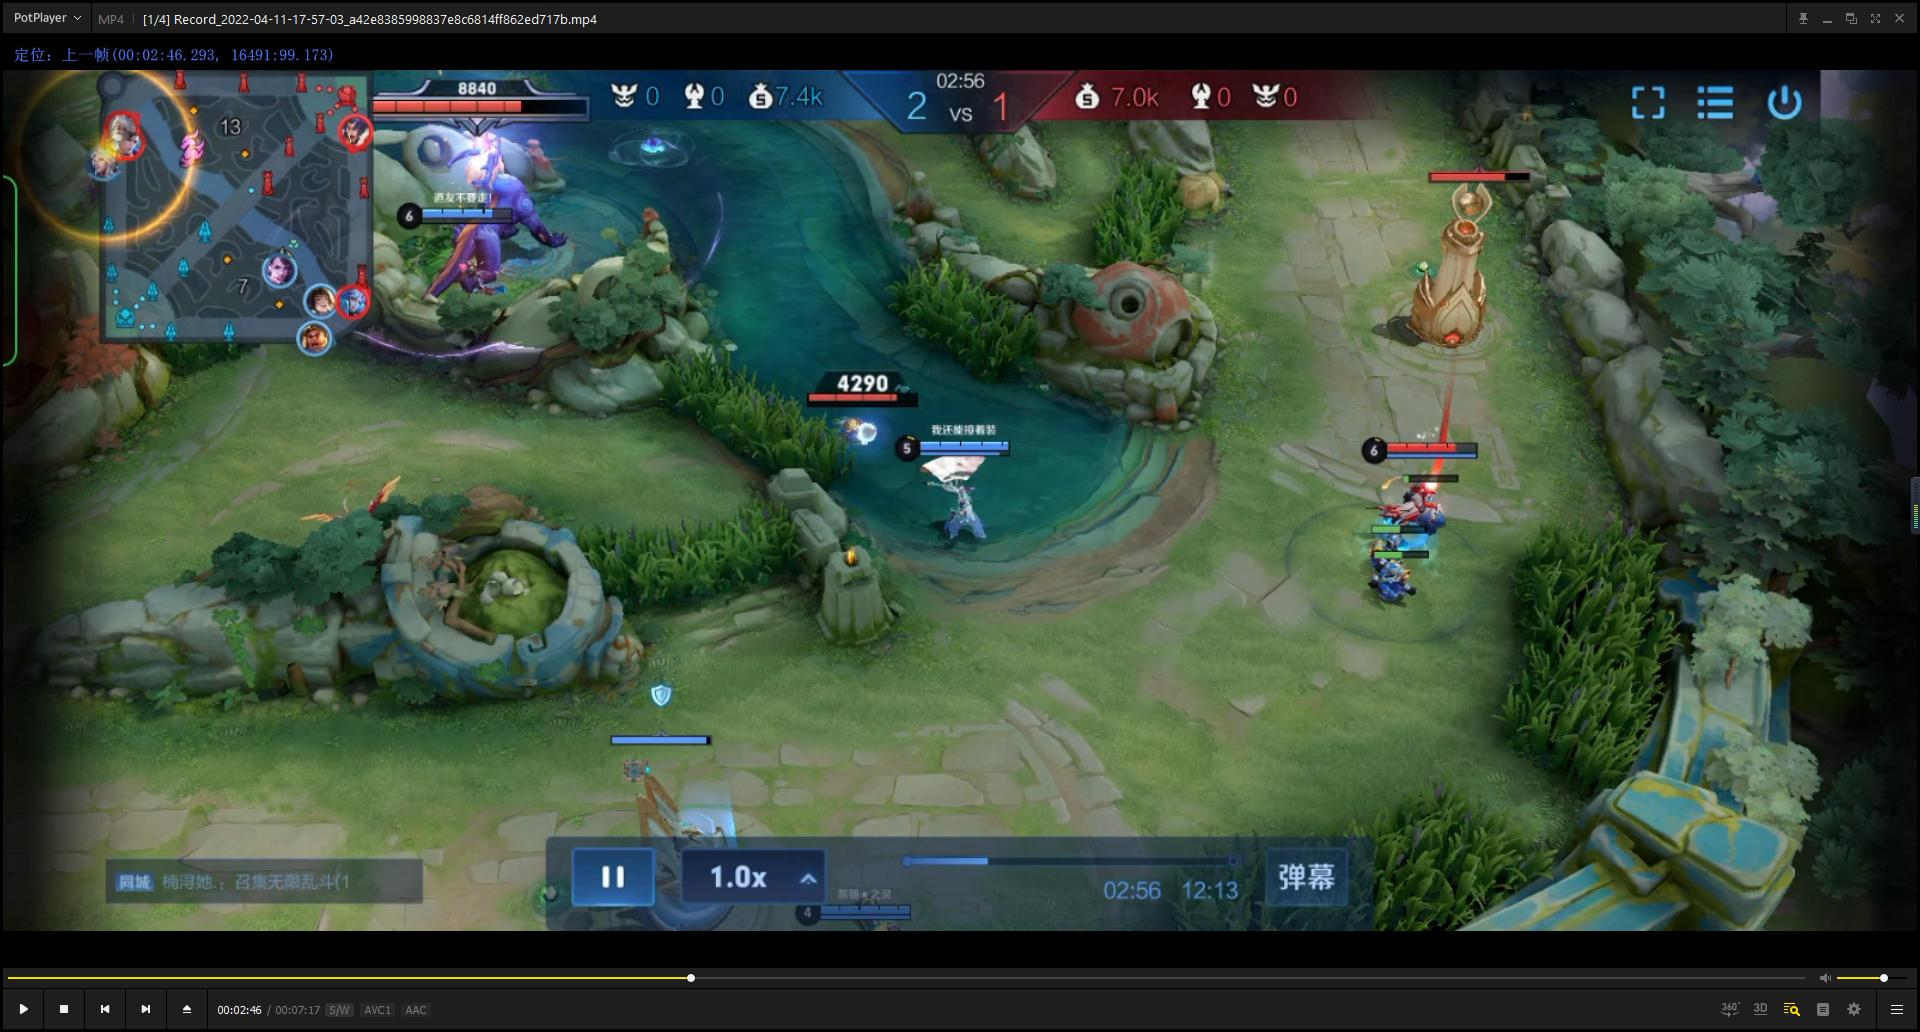BaoJun: (363, 75, 612, 304)
Bird: (277, 466, 412, 536)
Hero: (905, 452, 1014, 558), (1376, 466, 1445, 530), (447, 247, 513, 295)
Solider: (1365, 557, 1443, 621), (1358, 520, 1413, 573)
Spirit: (795, 362, 928, 477)
Tower: (568, 707, 755, 928), (1369, 144, 1535, 371)
